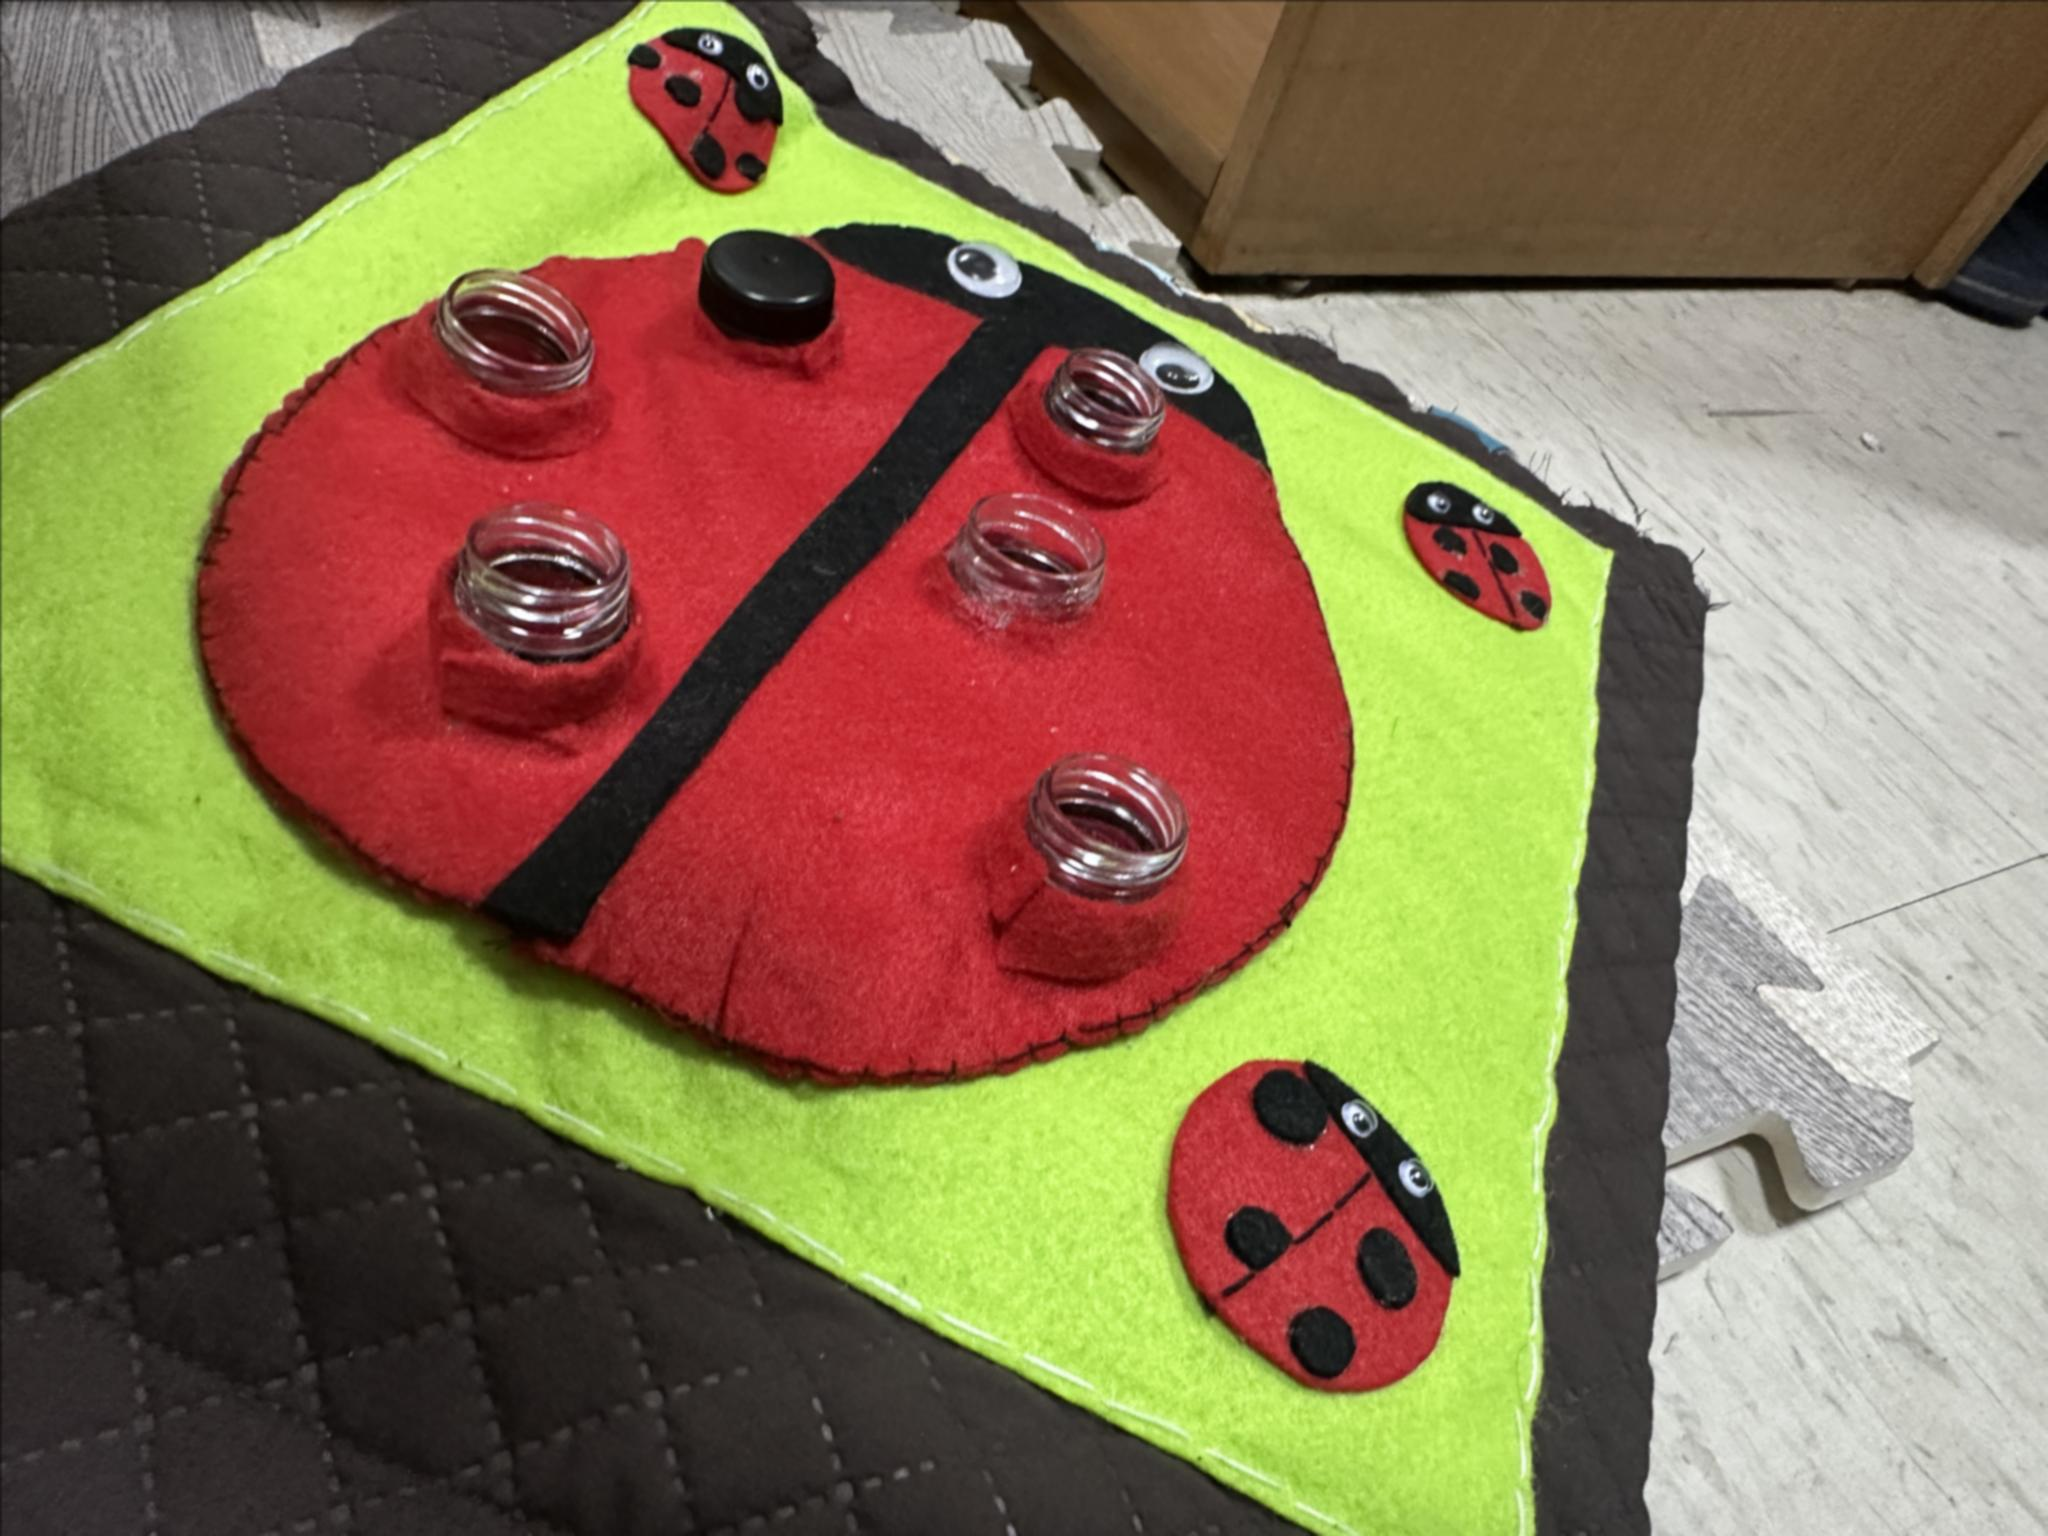cap_ok: (679, 216, 861, 386)
